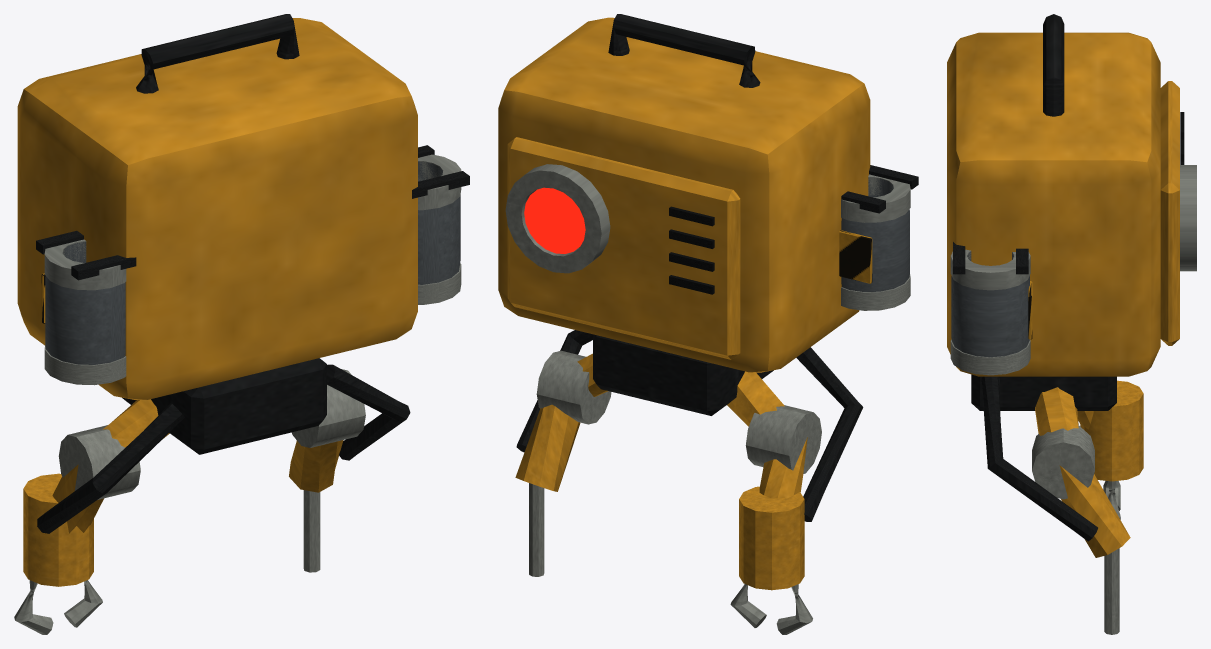
File: maintenance_bot.glb
The picture shows the model from 3 angles, left to right: view 1: azimuth 30°, elevation 25°; view 2: azimuth 150°, elevation 25°; view 3: azimuth 270°, elevation 25°; orthographic projection. The views are drawn at different scales.
Parts seen in each view (by area): view 1: ChassisMesh, WeaponMesh, PropulsionLeftMesh, PropulsionRightMesh; view 2: ChassisMesh, WeaponMesh, PropulsionLeftMesh, OpticsMesh; view 3: ChassisMesh, WeaponMesh, PropulsionRightMesh, OpticsMesh.
Part boxes in pixels (x1=…): ChassisMesh: x1=17, y1=14, x2=417, y2=454; WeaponMesh: x1=14, y1=364, x2=410, y2=634; PropulsionLeftMesh: x1=36, y1=230, x2=136, y2=385; PropulsionRightMesh: x1=412, y1=145, x2=469, y2=304; ChassisMesh: x1=498, y1=14, x2=870, y2=415; WeaponMesh: x1=515, y1=330, x2=863, y2=634; PropulsionLeftMesh: x1=839, y1=165, x2=918, y2=310; OpticsMesh: x1=505, y1=164, x2=610, y2=273; ChassisMesh: x1=947, y1=14, x2=1184, y2=410; WeaponMesh: x1=981, y1=376, x2=1143, y2=634; PropulsionRightMesh: x1=950, y1=242, x2=1032, y2=375; OpticsMesh: x1=1180, y1=165, x2=1196, y2=271.
Bounding box in the file's own units: 0.865 × 1.21 × 0.515.
3 materials, 1 textured.
